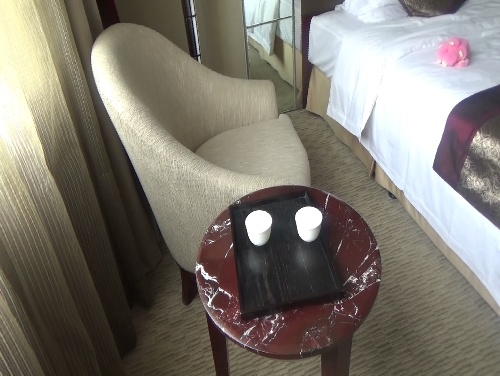chair: (87, 21, 321, 311)
cup: (242, 205, 276, 249), (291, 204, 324, 246)
table: (193, 183, 384, 372)
